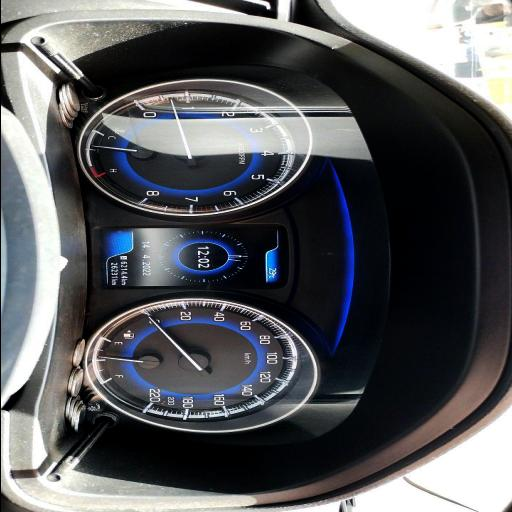tachometer: (92, 92, 294, 214)
